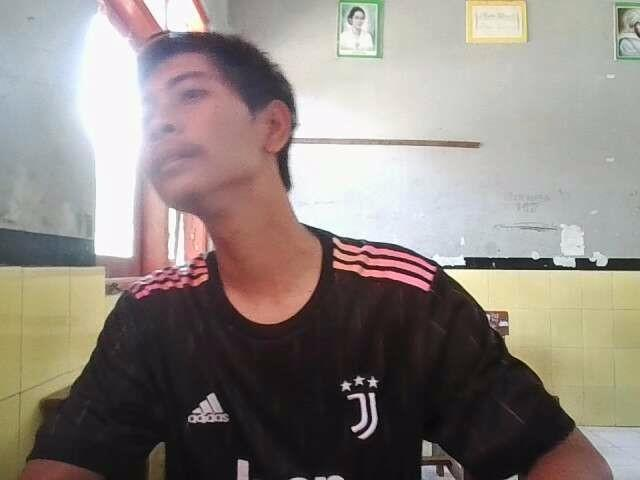cheating: (27, 24, 622, 480)
